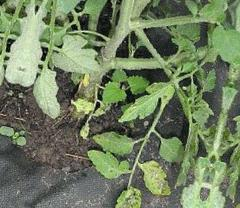Tomato Septoria leaf spot: (129, 156, 181, 201), (106, 181, 146, 208)
